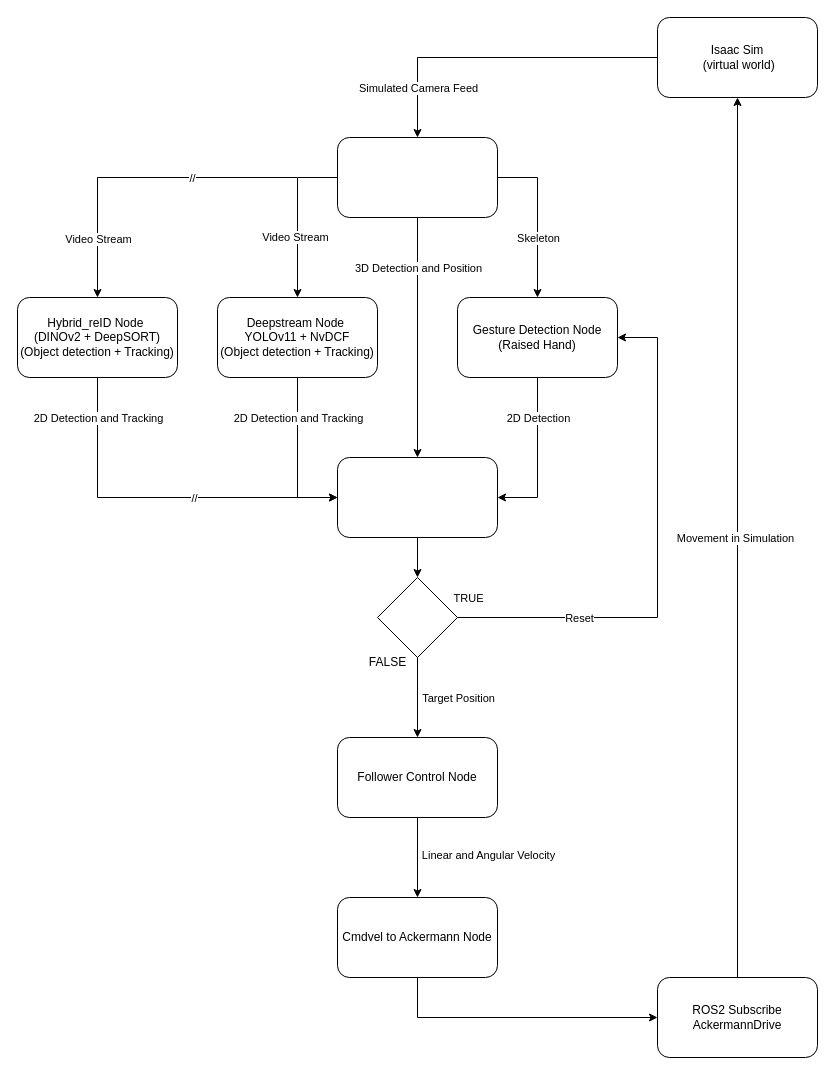
Some shapes in this 835 by 1075 pixel diagram are drawn without their labels. The centre of each missing label's shape, as x and y in pixels:
"Changed Tracking ID" belongs at [417,617].
"Fusion Node" belongs at [417,497].
"ZED2i Camera Node (ZED ROS2 Wrapper)" belongs at [417,177].
